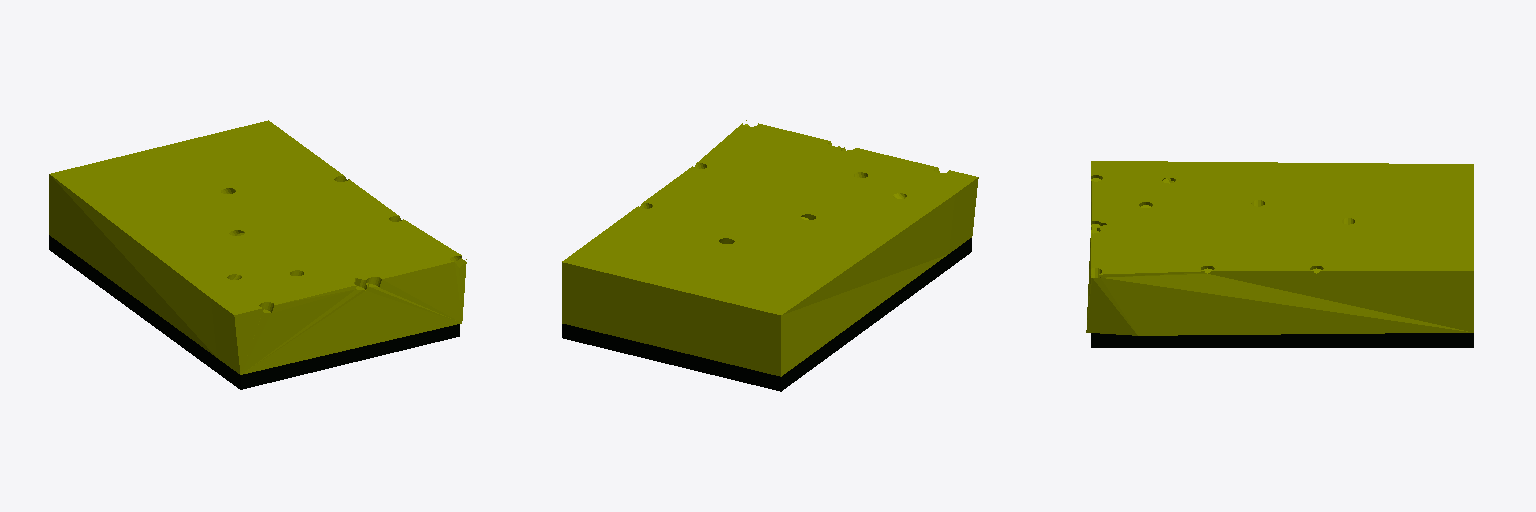
The model's file is Esponge_509.obj.
3 renders of one model, left to right at view 1: azimuth 30°, elevation 25°; view 2: azimuth 150°, elevation 25°; view 3: azimuth 270°, elevation 25°, orthographic.
Parts seen in each view (by area): view 1: Box002; view 2: Box002; view 3: Box002.
Part boxes in pixels (x1,y1,x2,y2): Box002: (49,120,466,389); Box002: (562,120,978,391); Box002: (1086,161,1473,347).
Bounding box in the file's own units: 20.65 × 6.47 × 29.8.